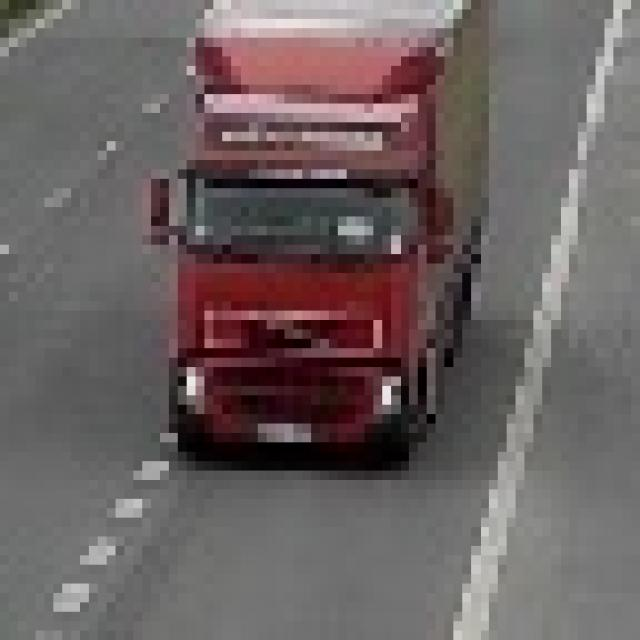TRUCK: (158, 0, 493, 471)
